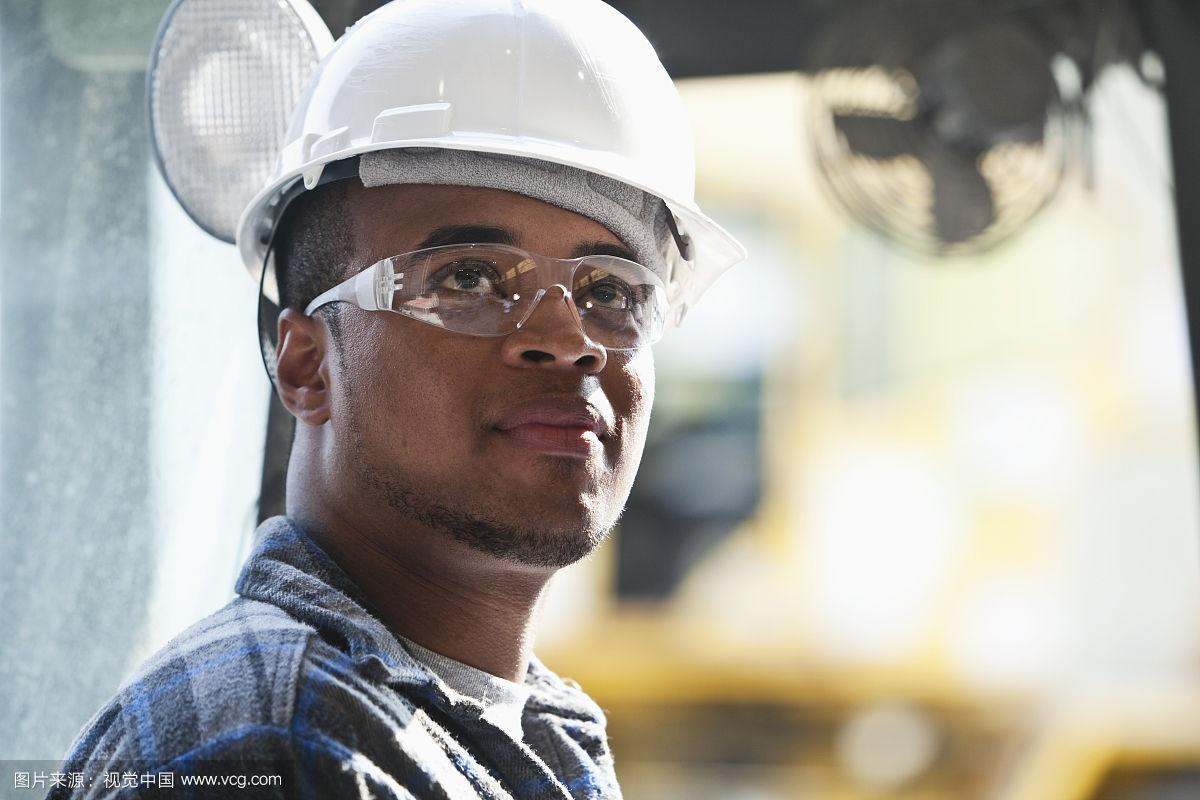Helmet: (264, 0, 744, 565)
